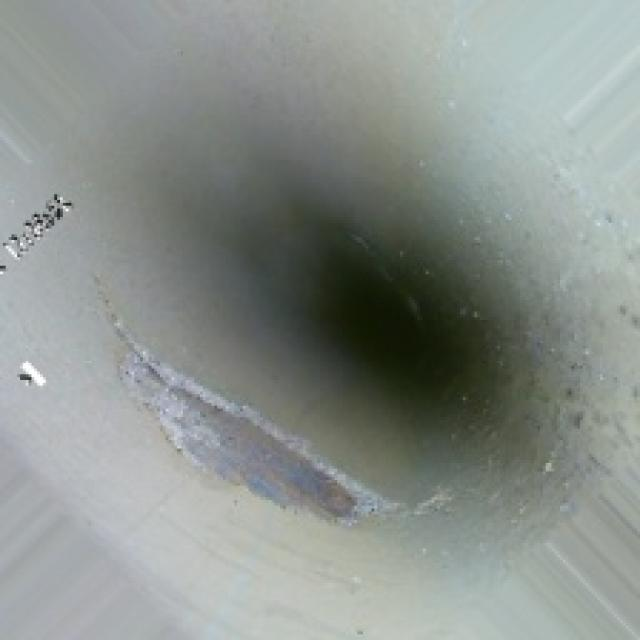pipe_surface_damage: (114, 306, 406, 534)
